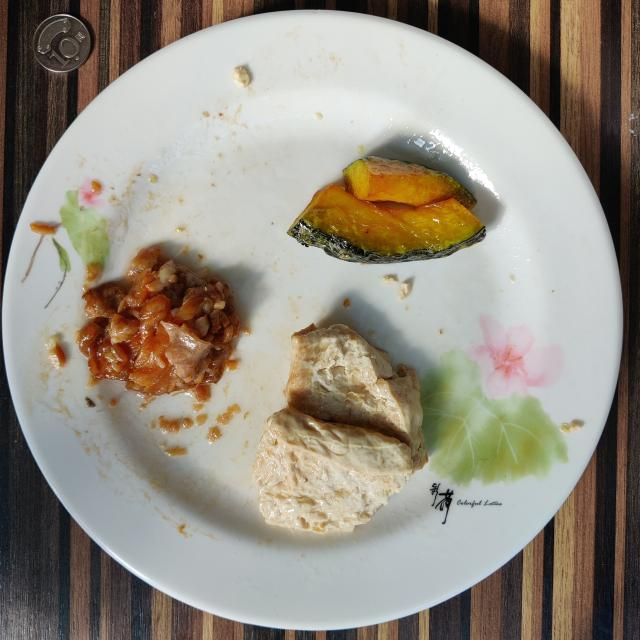Kabayaki sea bream fillet: (76, 248, 241, 401)
coin: (32, 15, 90, 72)
pumpkin: (289, 158, 485, 262)
